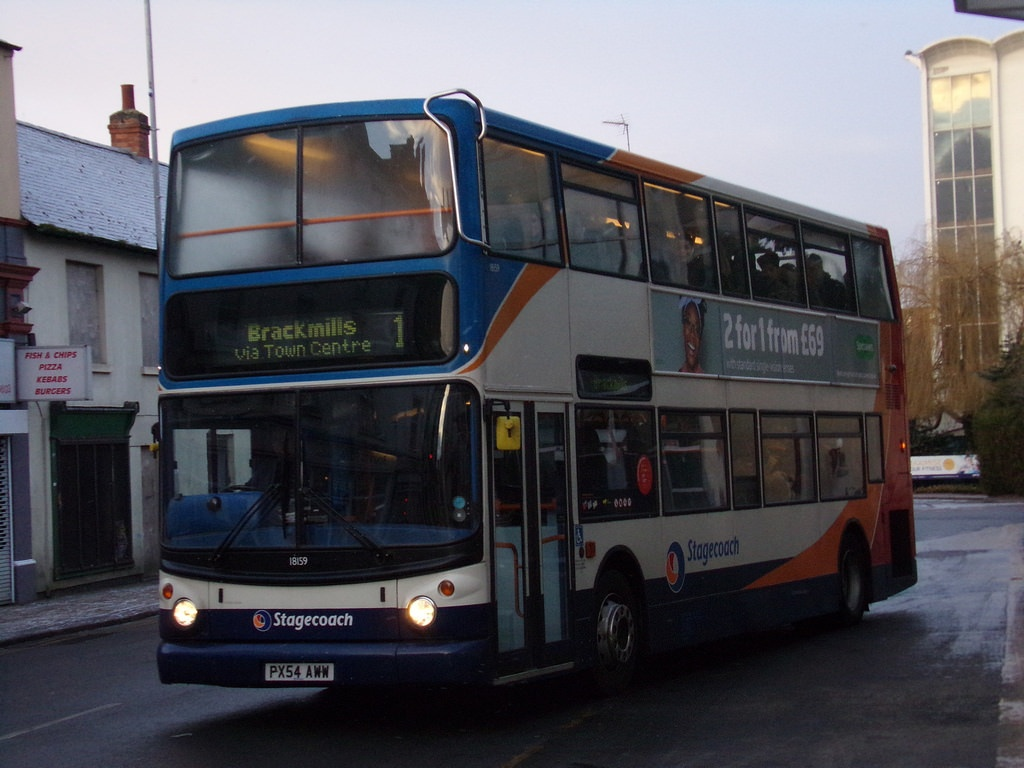bus: (125, 89, 920, 700)
